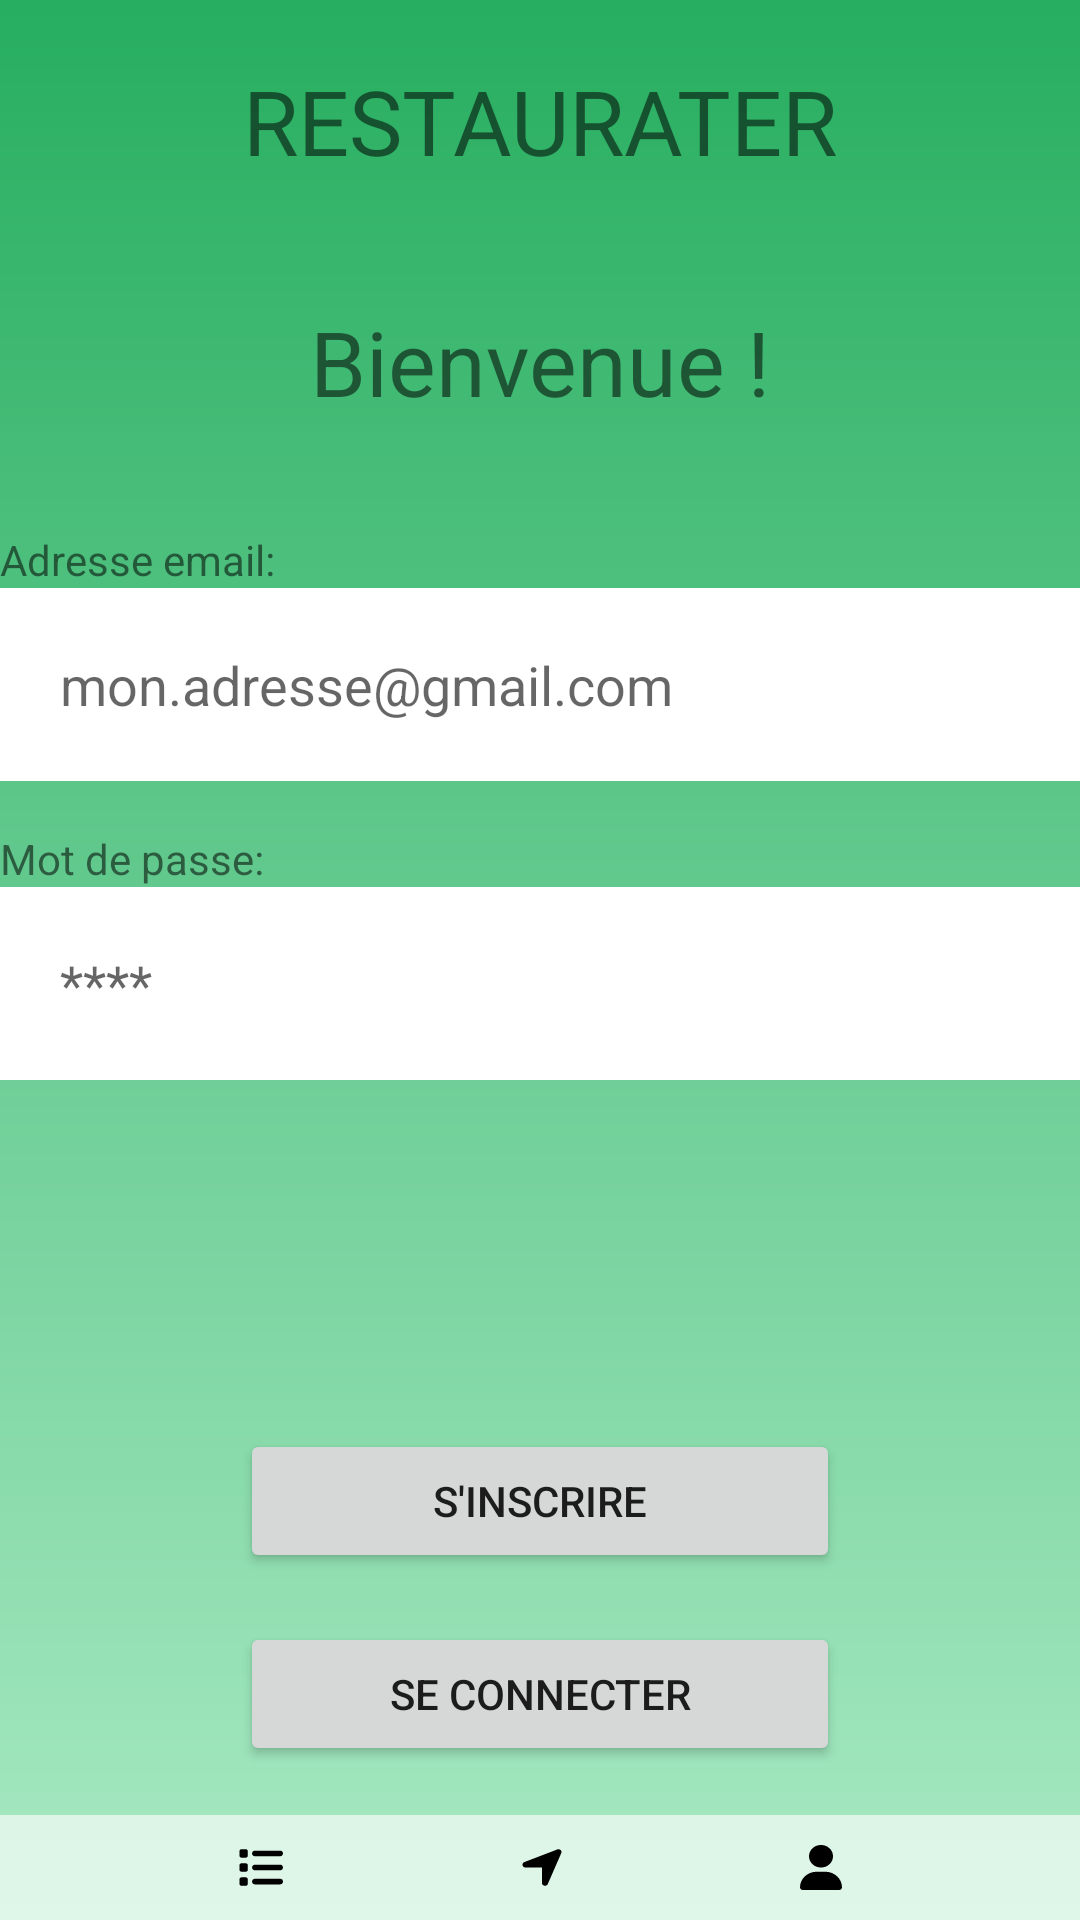

Named icons in this screenshot (1080w x 1920h) and their bounding boxes, (x1, y1, x2, y2):
List: (239, 1849, 283, 1886)
Location: (522, 1849, 562, 1886)
User: (800, 1845, 842, 1890)
